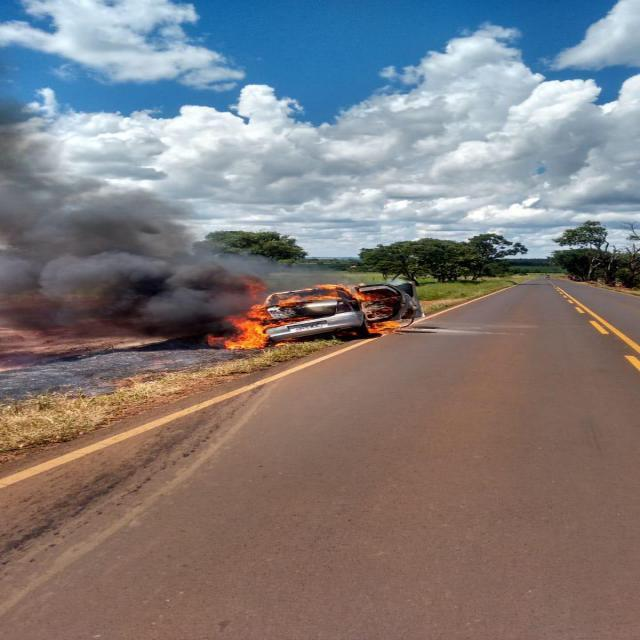Fire: (215, 304, 281, 350), (282, 280, 391, 304), (369, 318, 409, 334)
